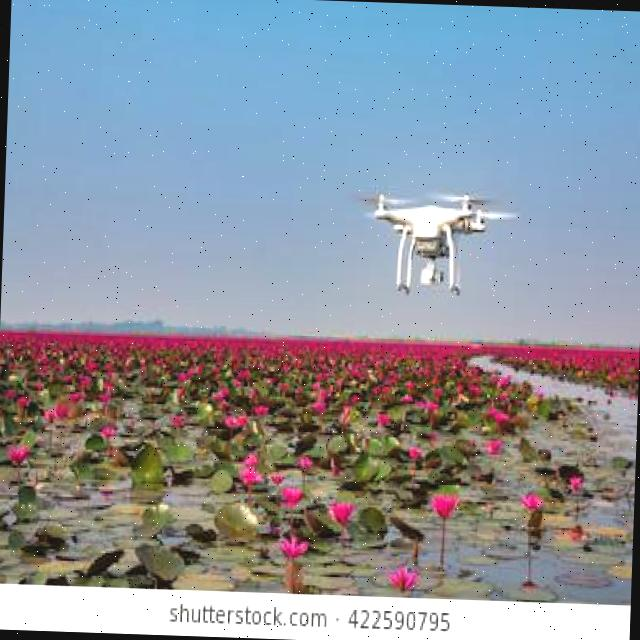drone: (330, 160, 544, 308)
